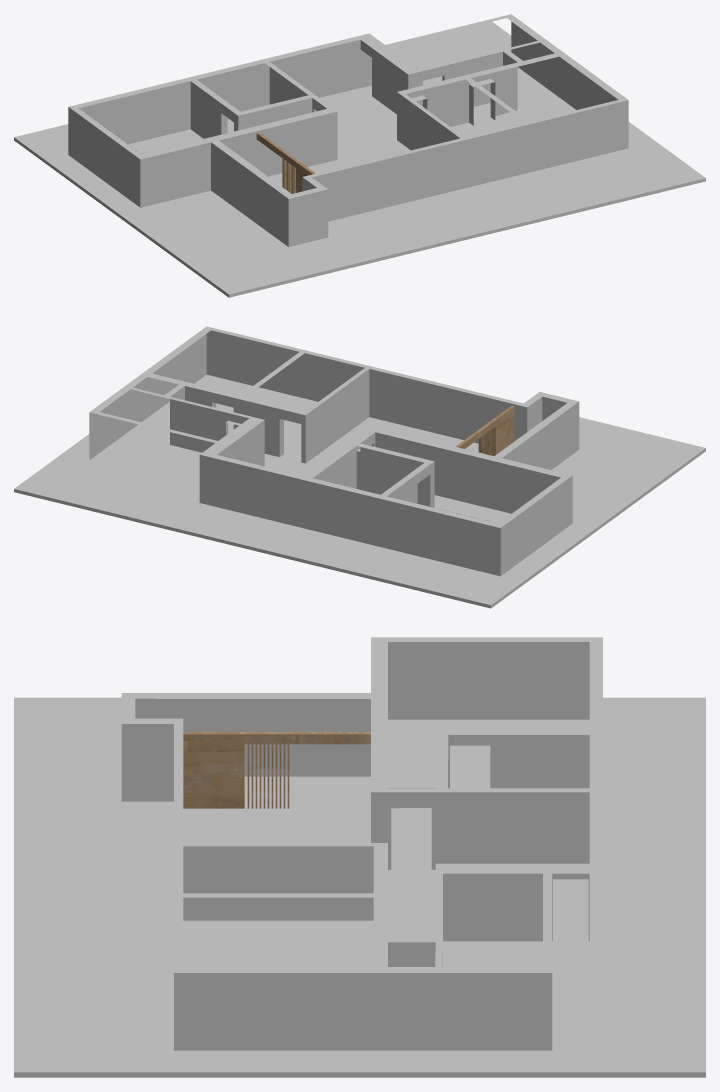
Rendered from BuidlingStructures_1.fbx.
3 renders of one model, top to bottom at view 1: azimuth 30°, elevation 25°; view 2: azimuth 150°, elevation 25°; view 3: azimuth 270°, elevation 25°, orthographic. The views are drawn at different scales.
Visible parts, largest first — view 1: BuildingMainWall, Floor_1, MainroomWall, PorchWall; view 2: BuildingMainWall, Floor_1, MainroomWall, PorchWall; view 3: Floor_1, BuildingMainWall, MainroomWall, PorchWall.
Boxes of the visible parts, x1,y1,x2,y2 form: BuildingMainWall: (68, 14, 628, 246); Floor_1: (14, 21, 705, 297); MainroomWall: (79, 81, 326, 152); PorchWall: (256, 132, 315, 193); BuildingMainWall: (89, 326, 579, 576); Floor_1: (14, 331, 705, 608); MainroomWall: (360, 432, 560, 520); PorchWall: (455, 405, 514, 455); Floor_1: (14, 697, 705, 1077); BuildingMainWall: (121, 637, 602, 1050); MainroomWall: (388, 642, 589, 788); PorchWall: (183, 732, 370, 808).
Size of the model in its own units: 7761 by 804 by 6055.
